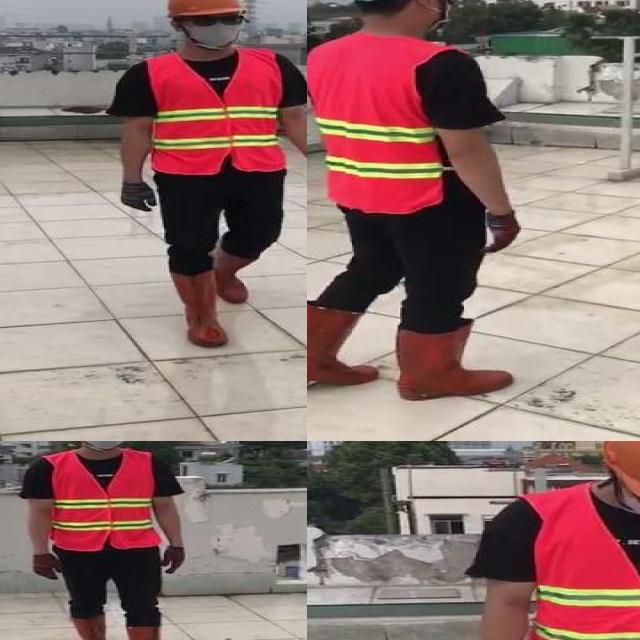boots: (398, 320, 519, 399), (307, 303, 378, 387), (166, 270, 230, 349), (210, 247, 264, 307), (73, 616, 110, 640), (123, 625, 171, 640)
face_mask: (181, 10, 245, 49), (79, 441, 129, 449)
glasses: (184, 11, 248, 29)
hand_glove: (483, 211, 522, 252), (119, 181, 157, 210), (32, 554, 64, 580), (162, 547, 184, 573)
head_helmet: (167, 0, 245, 17)
person: (307, 0, 547, 415), (103, 0, 307, 355), (15, 441, 195, 640), (466, 441, 640, 640)
vest: (307, 35, 448, 214), (142, 53, 286, 176), (529, 488, 640, 640), (45, 452, 166, 551)
